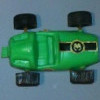verde_este: (2, 11, 99, 86)
